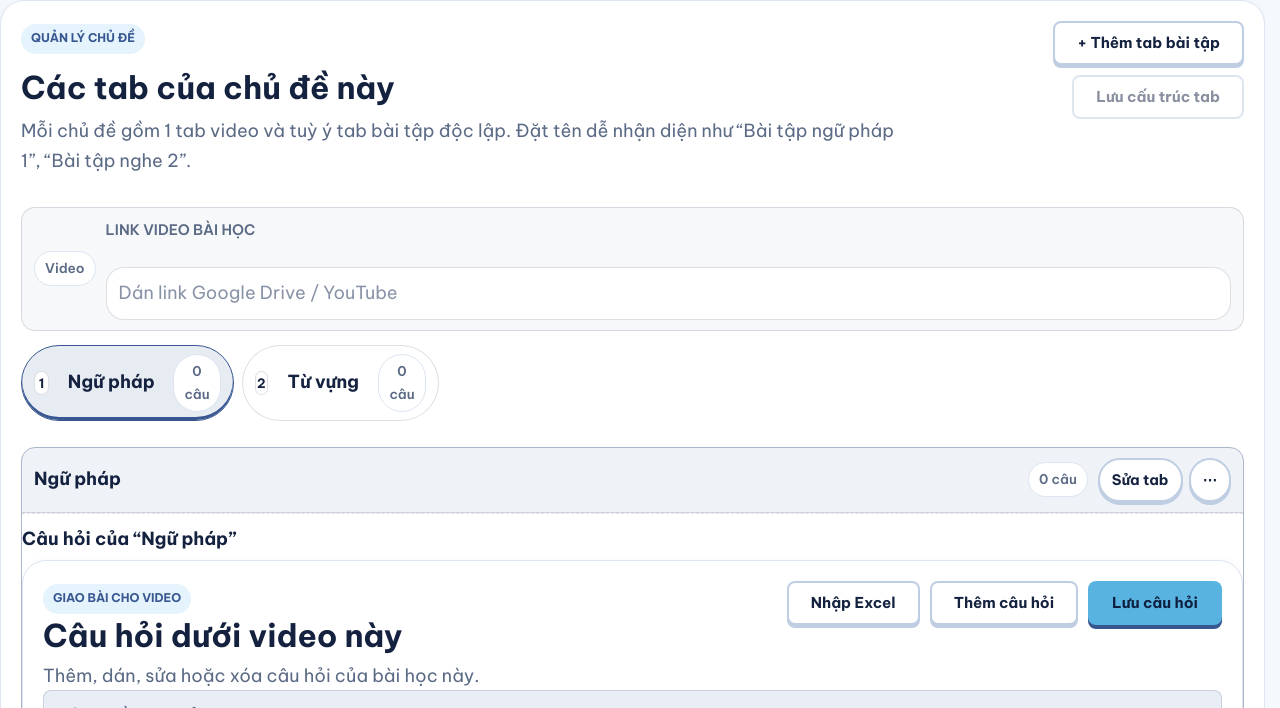
Scenario: LessonTabManager — ẩn bớt nút › bấm ⋯ mới bung ↑ ↓ Xóa, chỉ cho tab đang mở
The width and height of the screenshot is (1280, 708).
Click the button named "Thêm thao tác" at (1210, 480), box [1188, 458, 1231, 502]
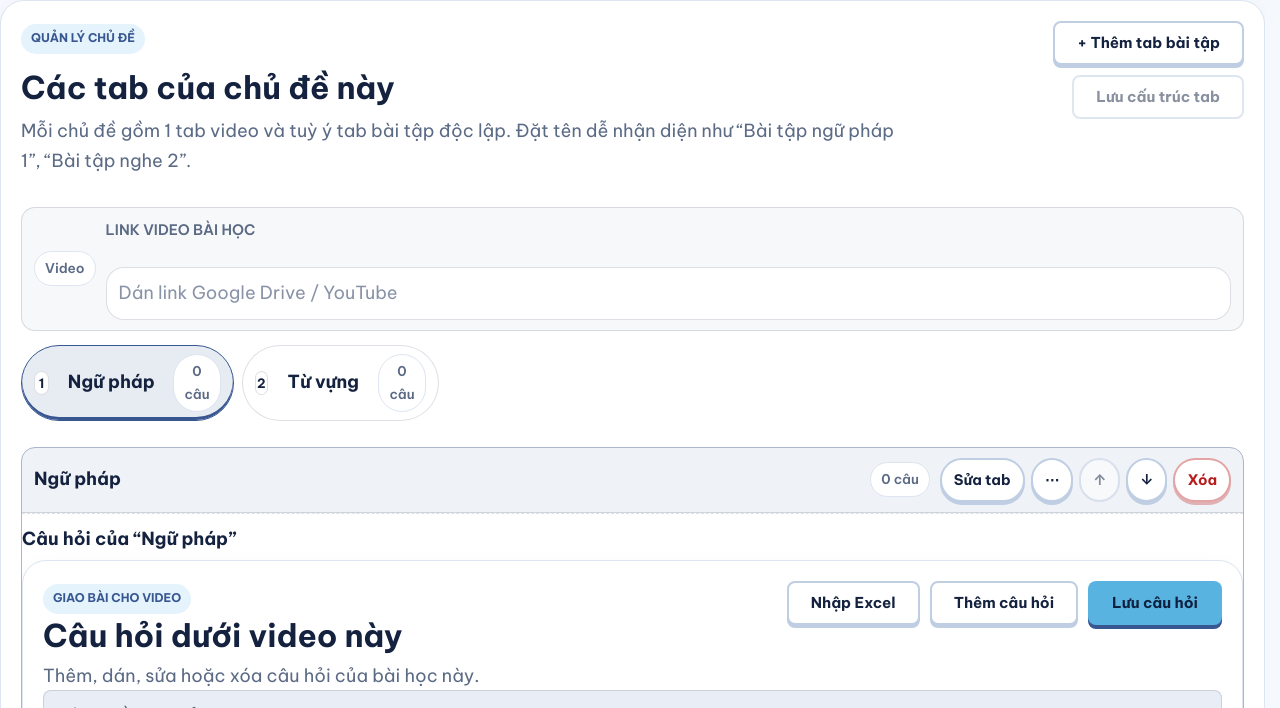
Expected: the button with aria-label "Xóa tab Ngữ pháp" is shown, [1173, 458, 1231, 502]
Expected: the button named "Đưa tab lên trên" is disabled, [1079, 458, 1120, 502]
Expected: the button named "Đưa tab xuống dưới" is enabled, [1126, 458, 1167, 502]
